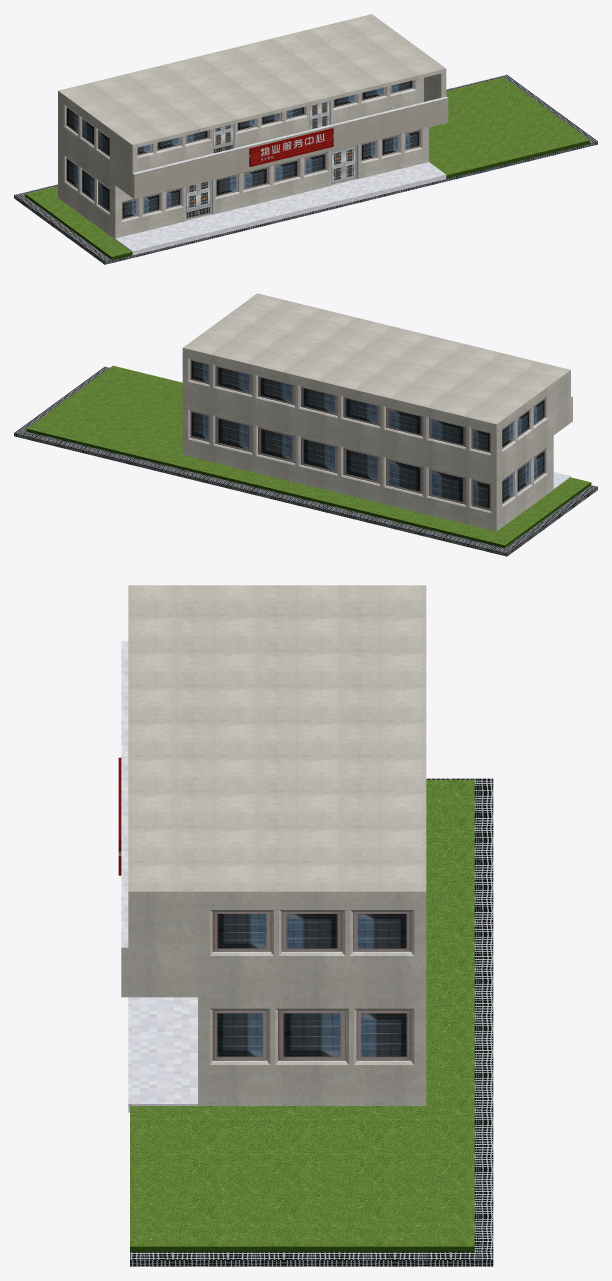
File: building_manage.obj
3 renders of one model, top to bottom at view 1: azimuth 30°, elevation 25°; view 2: azimuth 150°, elevation 25°; view 3: azimuth 270°, elevation 25°, orthographic. The views are drawn at different scales.
Visible parts, largest first — view 1: building_manage; view 2: building_manage; view 3: building_manage.
Part boxes in pixels (left/top/right/bottom): building_manage: left=14, top=14, right=597, bottom=264; building_manage: left=14, top=293, right=597, bottom=556; building_manage: left=118, top=585, right=493, bottom=1266.
Size of the model in its own units: 410 by 89.95 by 135.
10 materials, 10 textured.
